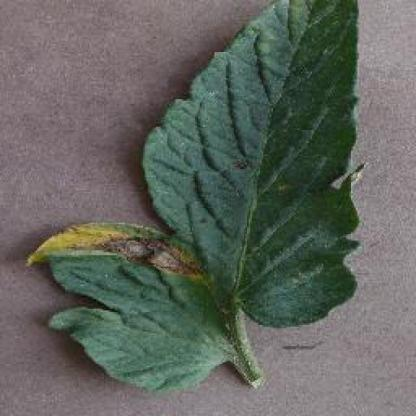Tomato_Blight: (26, 0, 364, 384)
